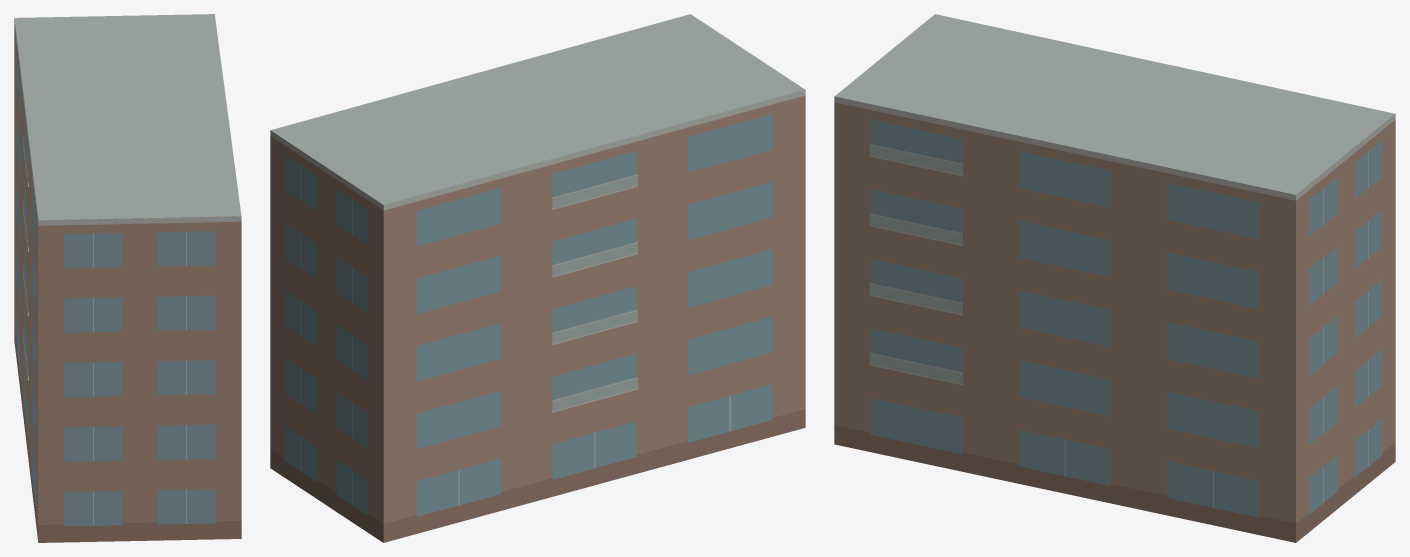
The model's file is survey-upis-32885237.glb.
3 renders of one model, left to right at view 1: azimuth 30°, elevation 25°; view 2: azimuth 150°, elevation 25°; view 3: azimuth 270°, elevation 25°, orthographic. The views are drawn at different scales.
Parts seen in each view (by area): view 1: survey-upis-32885237.tmp; view 2: survey-upis-32885237.tmp; view 3: survey-upis-32885237.tmp.
Part boxes in pixels (x1,y1,x2,y2): survey-upis-32885237.tmp: (14, 14, 241, 542); survey-upis-32885237.tmp: (270, 14, 805, 542); survey-upis-32885237.tmp: (834, 14, 1395, 542).
Size of the model in its own units: 16.12 by 14.45 by 21.12.
